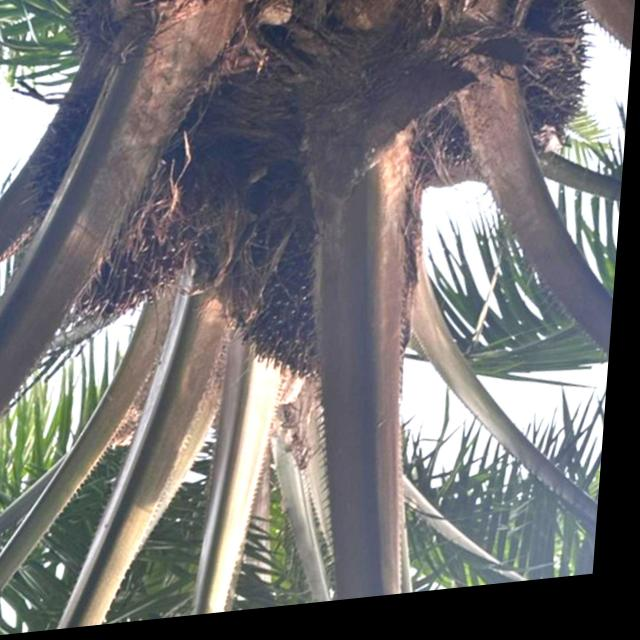unripe: (218, 158, 431, 394), (12, 79, 208, 330), (409, 0, 599, 195)
